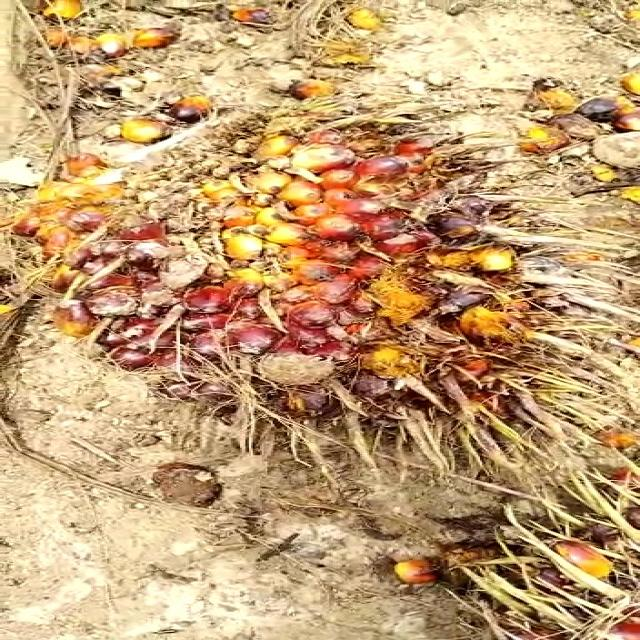palm oil: (0, 112, 612, 486)
